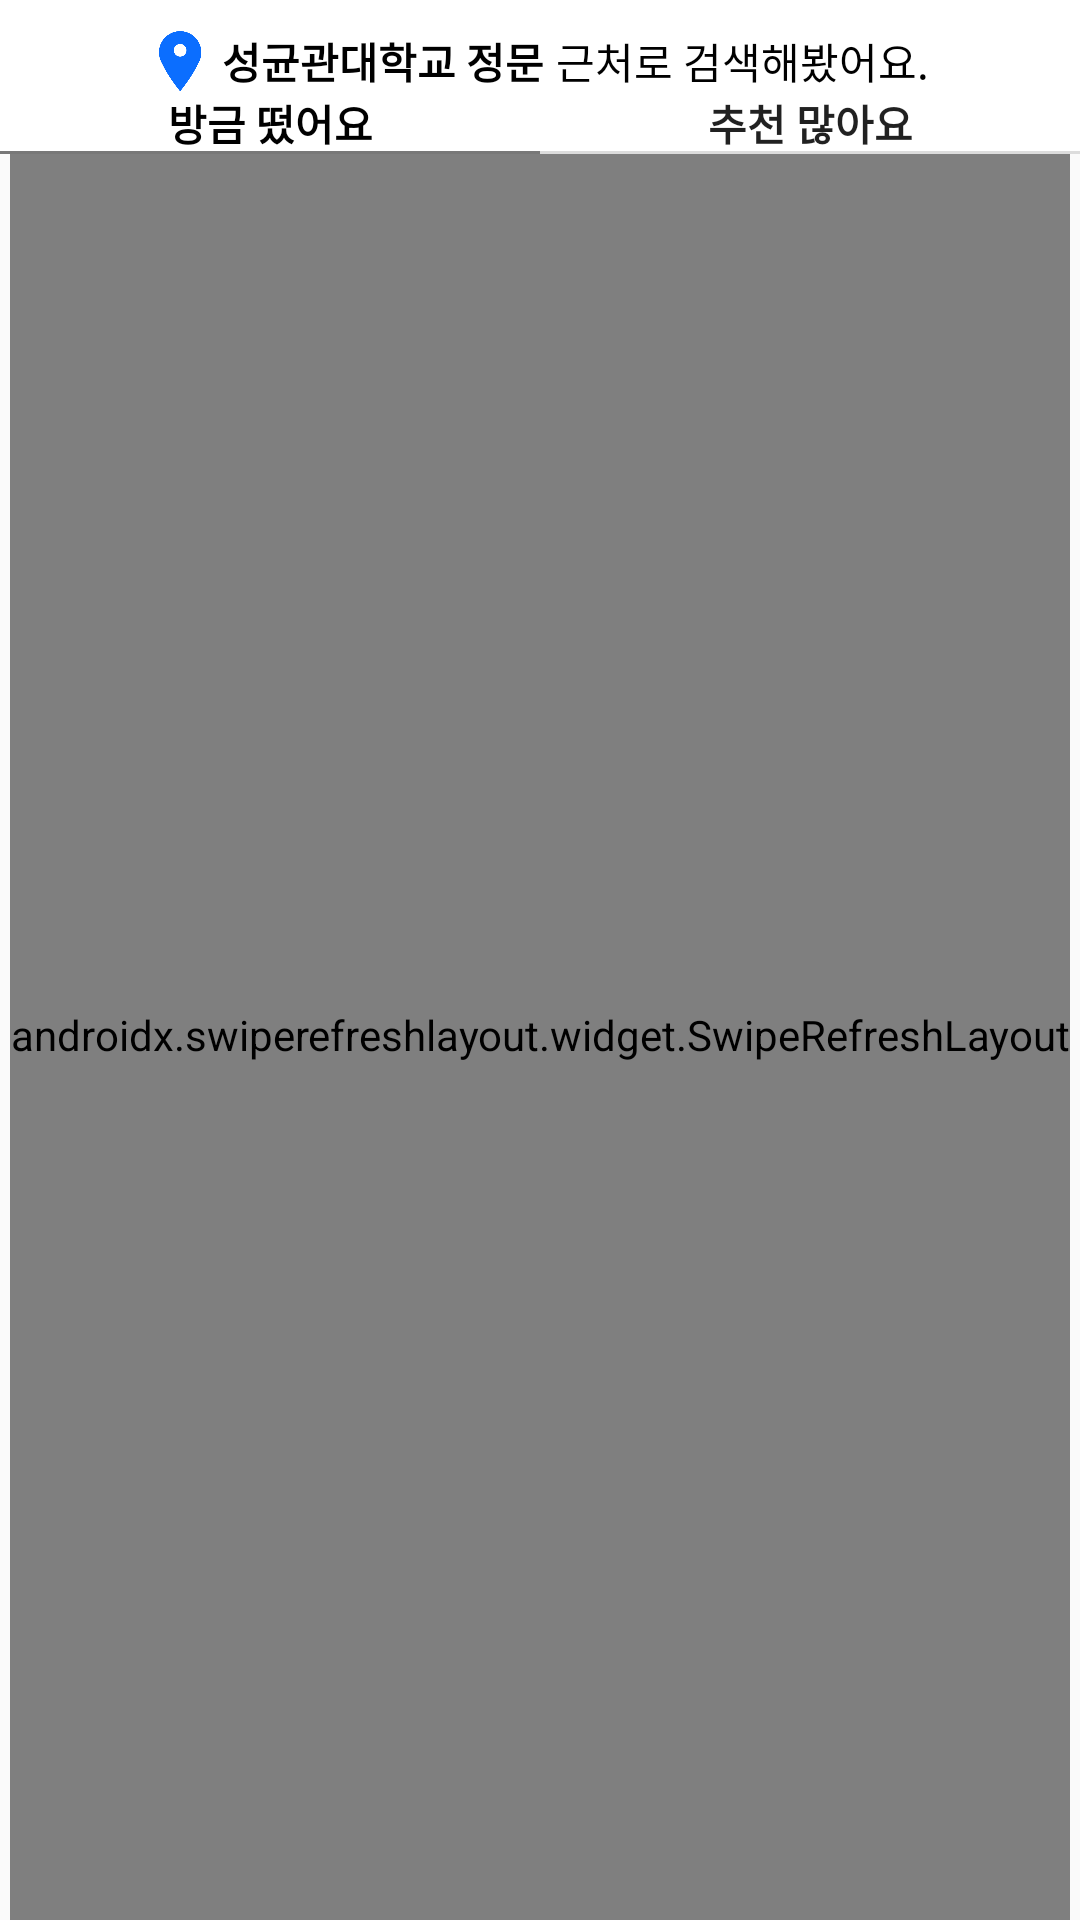

Icon click points for this 1080px x 1920px phone screenshot, format point (x, y):
position: point (180, 61)
